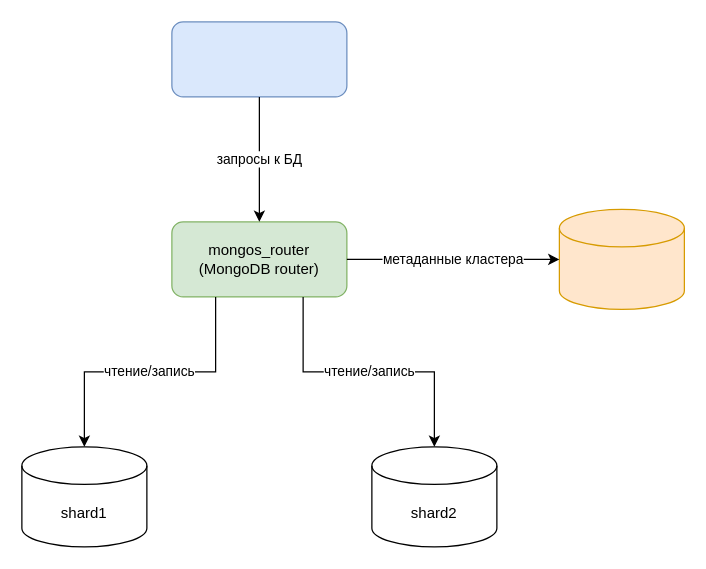
The diagram is 706 pixels wide and 569 high, and some of its shapes have lost their labels. Here are the shapes that lost their labels. From the top down, the box of each, then its label:
(171, 21, 347, 97): pymongo-api
(558, 208, 684, 309): configSrv (config server)
